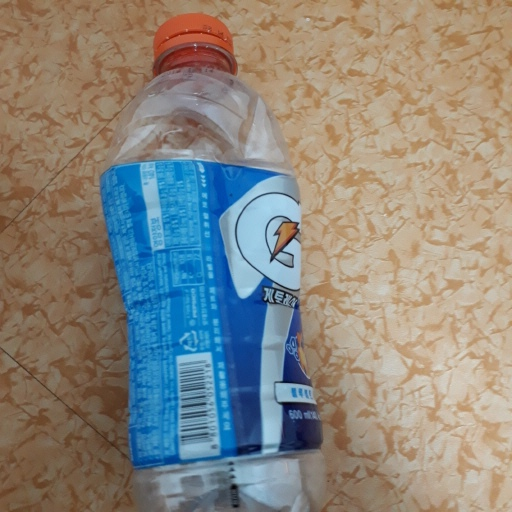Plastic_0: (99, 12, 332, 512)
